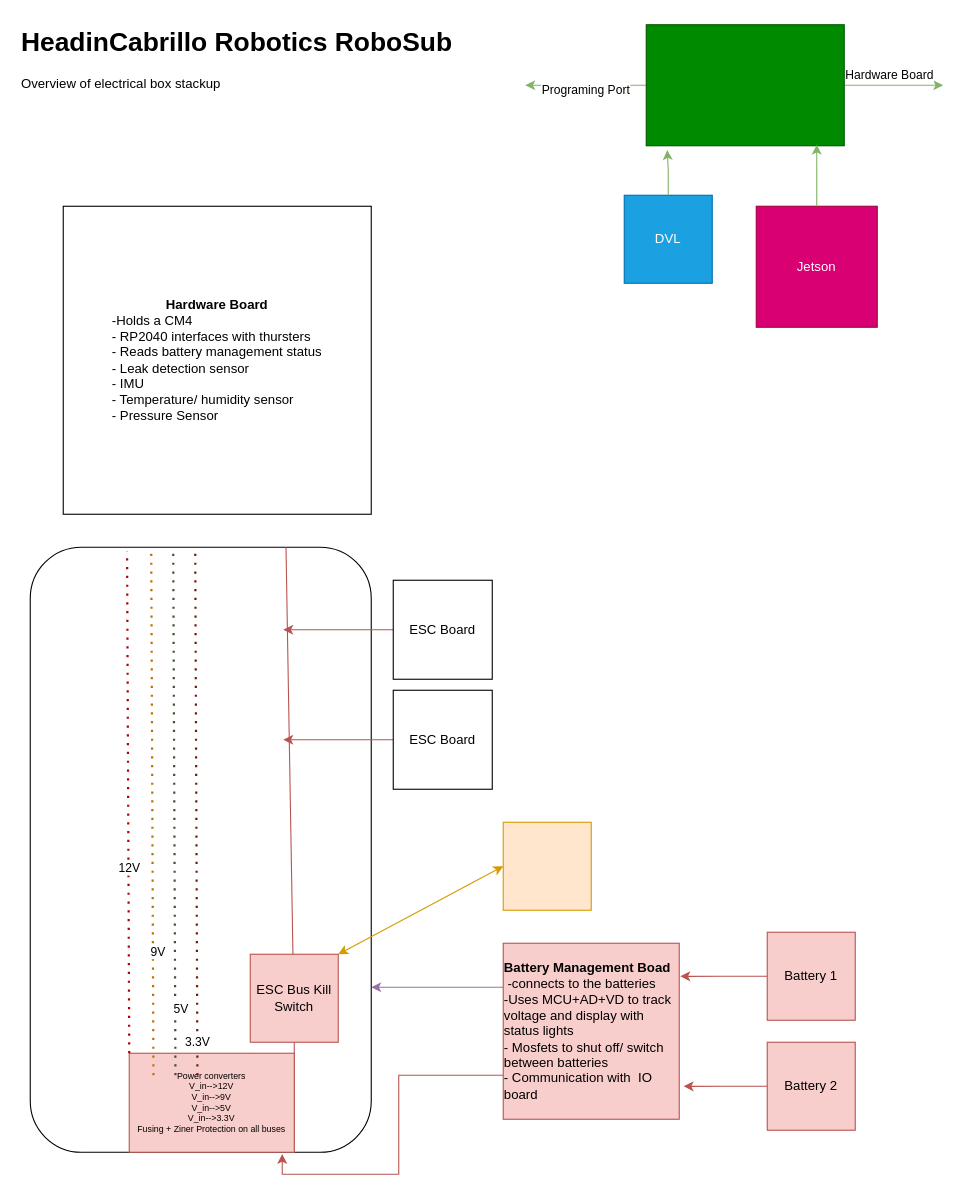
The diagram is 971 pixels wide and 1202 high, and some of its shapes have lost their labels. The box of each missing label's shape, as (x1, y1, x2, y2) in pixels:
Back Plane: (29, 546, 371, 1152)
Ethernet Switch: (645, 24, 844, 146)
Kill Switch Sensor Board: (502, 821, 591, 910)
